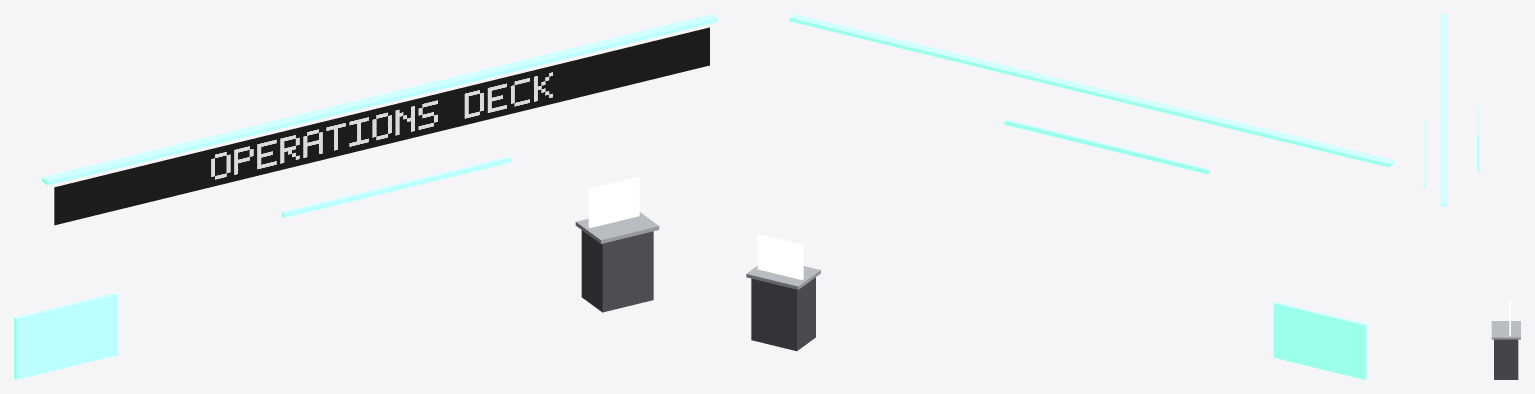
The model's file is room-s14-askdoc-x-4.glb.
The picture shows the model from 3 angles, left to right: view 1: azimuth 30°, elevation 25°; view 2: azimuth 150°, elevation 25°; view 3: azimuth 270°, elevation 25°; orthographic projection. The views are drawn at different scales.
Visible parts, largest first — view 1: AskDoc.X Operations Deck room; view 2: AskDoc.X Operations Deck room; view 3: AskDoc.X Operations Deck room.
Boxes of the visible parts, <box> form: AskDoc.X Operations Deck room: <box>14,14,717,379</box>; AskDoc.X Operations Deck room: <box>746,14,1394,379</box>; AskDoc.X Operations Deck room: <box>1423,14,1520,379</box>.
Size of the model in its own units: 9.2 by 4.08 by 2.
Materials: 5 (1 with a texture image).
